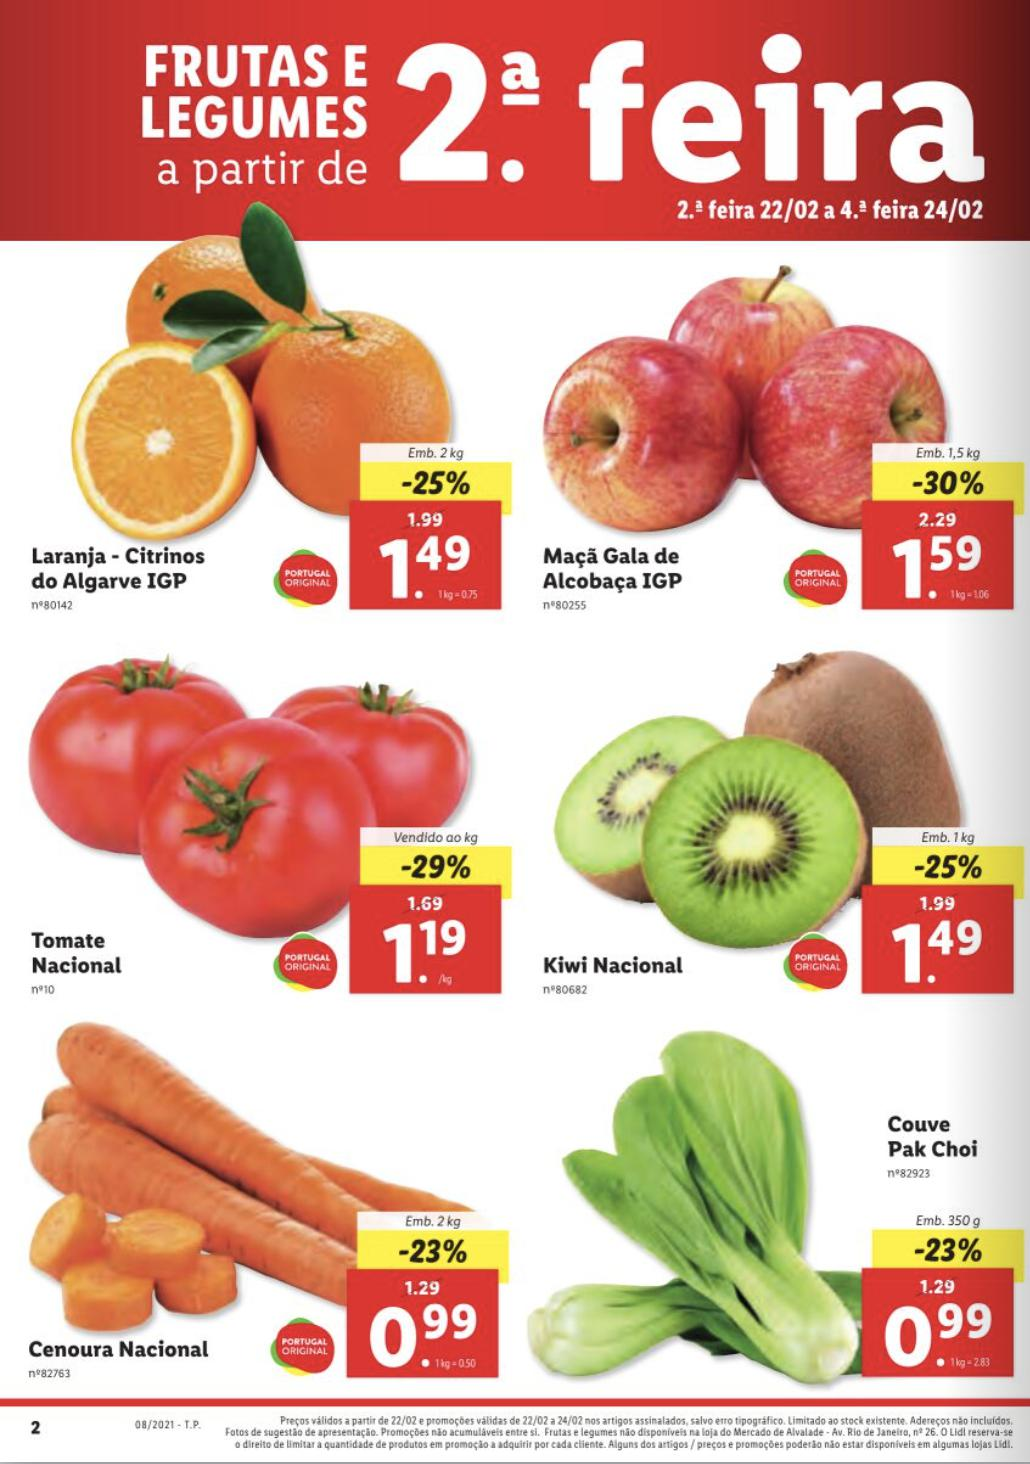name: (25, 538, 208, 595), (537, 541, 691, 598), (27, 924, 135, 982), (20, 1335, 215, 1364), (536, 947, 689, 984), (884, 1111, 984, 1164)
price: (884, 529, 1004, 609), (365, 1296, 484, 1376), (880, 1300, 995, 1378), (376, 531, 490, 609), (876, 916, 989, 990), (378, 916, 472, 989)
product: (9, 1007, 519, 1402), (16, 244, 529, 627), (16, 627, 519, 1007), (524, 1011, 1018, 1395), (529, 255, 1022, 640), (524, 640, 1022, 1011)
promotion: (905, 1229, 991, 1267), (905, 466, 991, 504), (905, 849, 987, 886), (393, 1233, 469, 1271), (402, 467, 476, 504), (396, 851, 476, 882)
